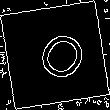O_SW: (23, 22, 87, 88)
